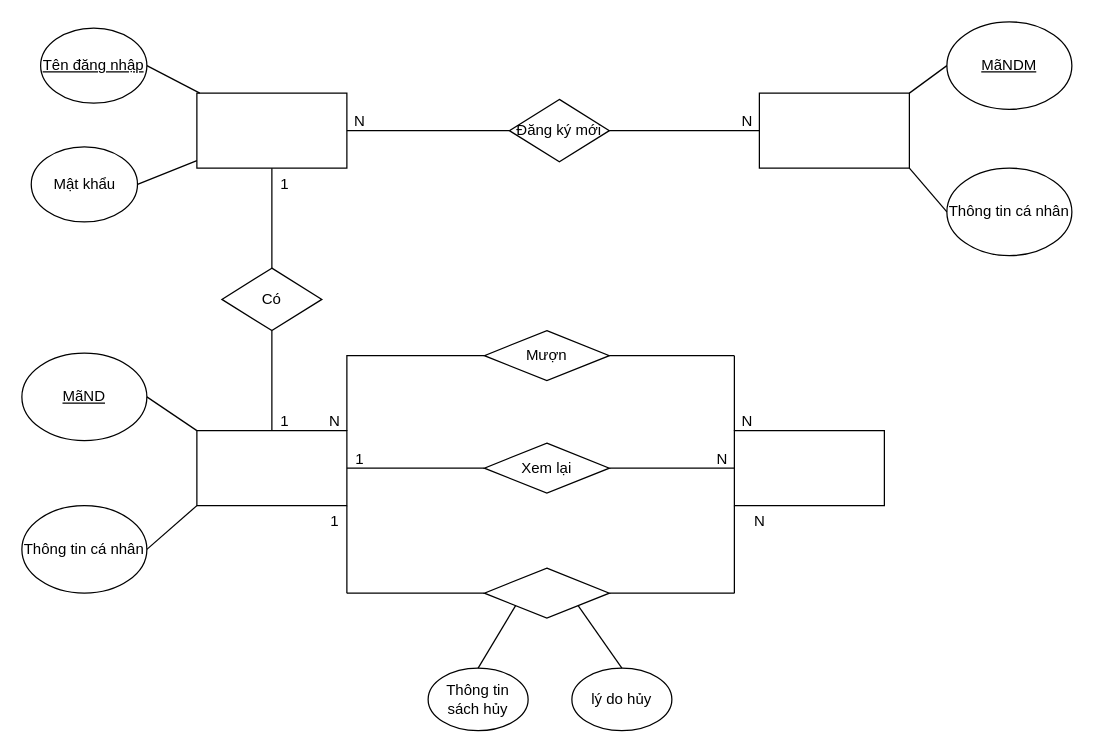
The diagram is 1094 pixels wide and 753 high, and some of its shapes have lost their labels. Here are the shapes that lost their labels. From the top down, the box of each, then its label:
(196, 92, 347, 168): Tài khoản
(758, 92, 909, 168): Người dùng mới
(196, 429, 347, 506): Người dùng
(733, 429, 884, 506): Sách
(483, 567, 609, 618): Hủy mượn
